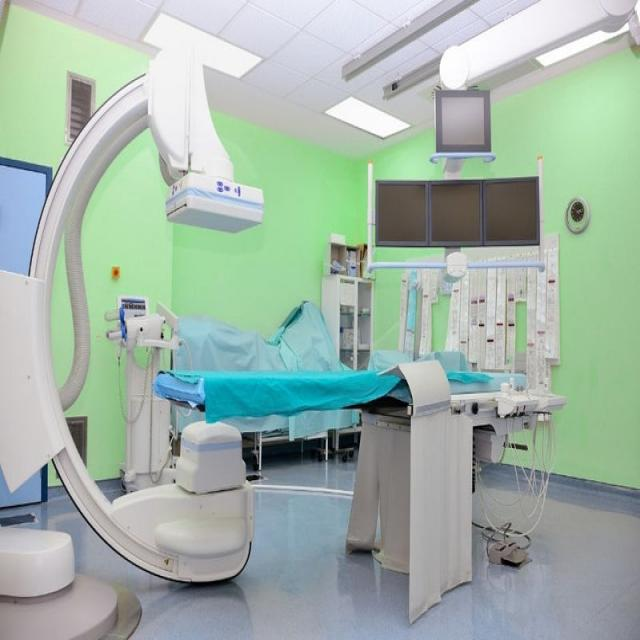Bed: (153, 367, 563, 573)
C_arm: (20, 30, 269, 596)
